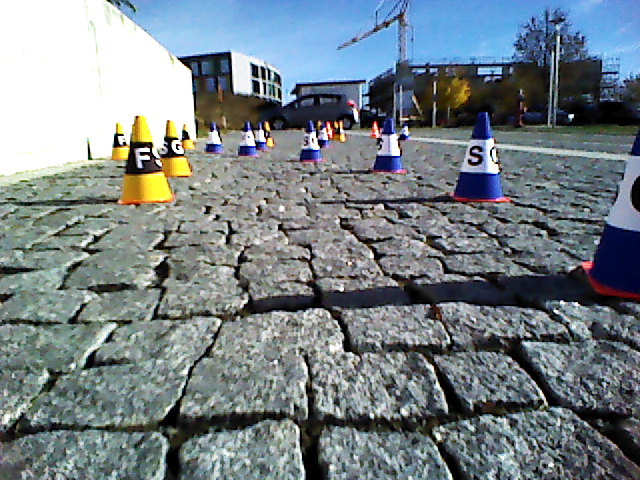bluecone: (593, 130, 640, 289), (455, 110, 502, 198), (375, 119, 401, 171), (299, 121, 320, 162), (240, 121, 257, 156)
yellowcone: (121, 116, 170, 202), (161, 121, 191, 175), (112, 122, 130, 161)
